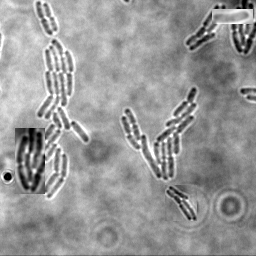Dividing: (34, 1, 52, 37), (41, 3, 57, 33)
Microcolony: (18, 40, 89, 199), (120, 87, 197, 181), (15, 128, 45, 194), (184, 5, 226, 52), (230, 1, 255, 56), (165, 185, 197, 221), (212, 9, 253, 24)
